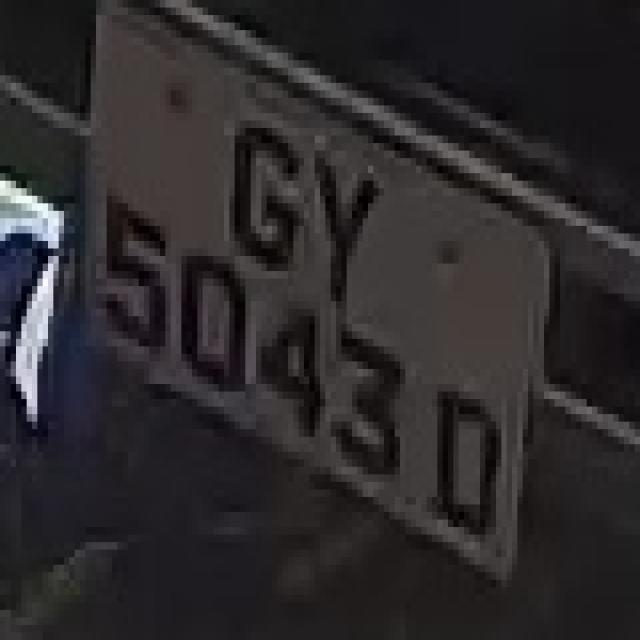0: (165, 226, 251, 399)
3: (331, 294, 416, 504)
4: (256, 264, 331, 460)
5: (85, 166, 171, 377)
D: (411, 362, 501, 550)
G: (224, 98, 293, 286)
Y: (299, 136, 384, 308)
